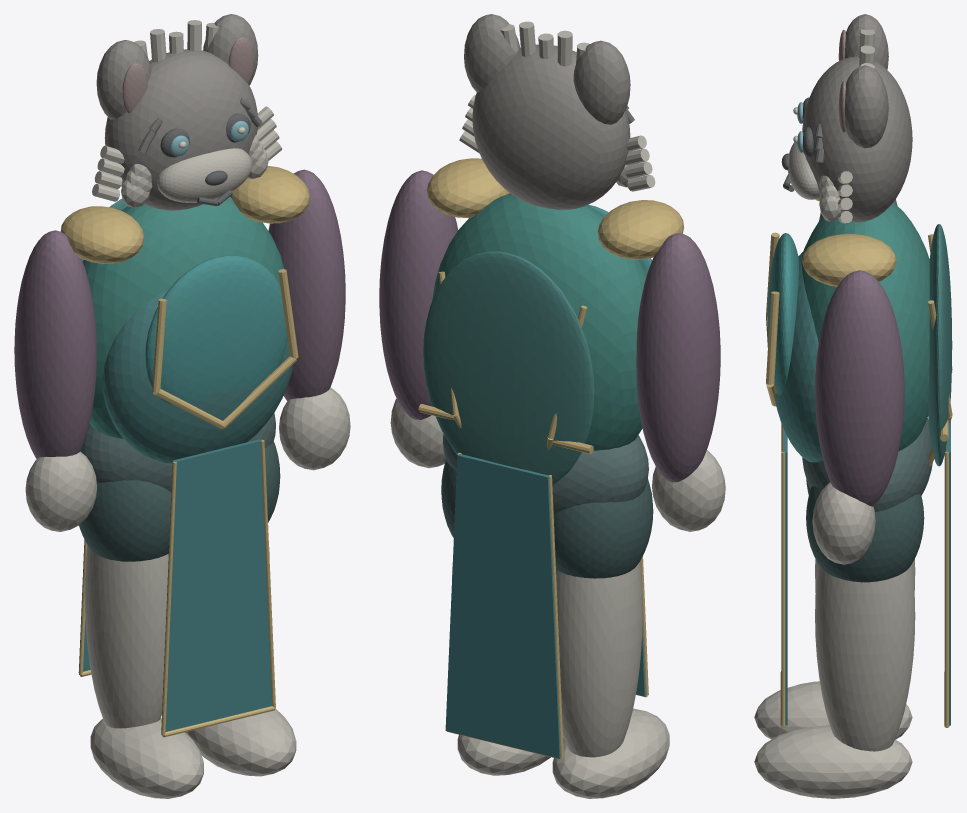
Rendered from high_prototype.glb.
3 renders of one model, left to right at view 1: azimuth 30°, elevation 25°; view 2: azimuth 150°, elevation 25°; view 3: azimuth 270°, elevation 25°, orthographic. The views are drawn at different scales.
Parts seen in each view (by area): view 1: front_hanging_fabric_062, chest_armor_055, arm_-1_006, torso_001, leg_-1_004, belly_clothing_003, head_016, arm_1_012, paw_-1_005, short_leg_-1_060, paw_1_011, hand_-1_007 (+15 smaller); view 2: back_coat_051, back_hanging_fabric_066, torso_001, head_016, arm_-1_006, leg_-1_004, arm_1_012, short_leg_-1_060, paw_-1_005, hips_002, hand_-1_007, gold_shoulder_057 (+8 smaller); view 3: arm_1_012, leg_1_010, torso_001, head_016, paw_1_011, short_leg_1_061, belly_clothing_003, back_coat_051, hand_1_013, gold_shoulder_059, chest_armor_055, hips_002 (+10 smaller).
Boxes of the visible parts, left/top/right/bottom form: front_hanging_fabric_062: left=161, top=439, right=271, bottom=731; chest_armor_055: left=145, top=255, right=287, bottom=404; arm_-1_006: left=14, top=230, right=96, bottom=458; torso_001: left=83, top=197, right=284, bottom=438; leg_-1_004: left=84, top=545, right=168, bottom=728; belly_clothing_003: left=103, top=289, right=293, bottom=463; head_016: left=104, top=49, right=257, bottom=210; arm_1_012: left=268, top=169, right=345, bottom=400; paw_-1_005: left=90, top=718, right=203, bottom=798; short_leg_-1_060: left=79, top=480, right=171, bottom=561; paw_1_011: left=185, top=708, right=296, bottom=776; hand_-1_007: left=25, top=451, right=96, bottom=531; back_coat_051: left=423, top=251, right=594, bottom=485; back_hanging_fabric_066: left=445, top=454, right=560, bottom=758; torso_001: left=432, top=193, right=646, bottom=450; head_016: left=472, top=44, right=630, bottom=209; arm_-1_006: left=636, top=233, right=720, bottom=482; leg_-1_004: left=556, top=561, right=642, bottom=757; arm_1_012: left=379, top=170, right=458, bottom=419; short_leg_-1_060: left=553, top=479, right=653, bottom=578; paw_-1_005: left=552, top=708, right=669, bottom=798; hips_002: left=443, top=434, right=648, bottom=513; hand_-1_007: left=652, top=450, right=725, bottom=531; gold_shoulder_057: left=597, top=200, right=684, bottom=259; arm_1_012: left=815, top=270, right=904, bottom=506; leg_1_010: left=815, top=564, right=915, bottom=751; torso_001: left=801, top=202, right=929, bottom=450; head_016: left=802, top=56, right=912, bottom=222; paw_1_011: left=754, top=725, right=912, bottom=798; short_leg_1_061: left=806, top=486, right=924, bottom=582; belly_clothing_003: left=775, top=252, right=822, bottom=462; back_coat_051: left=928, top=224, right=952, bottom=466; hand_1_013: left=812, top=482, right=875, bottom=564; gold_shoulder_059: left=802, top=234, right=896, bottom=286; chest_armor_055: left=767, top=233, right=798, bottom=395; hips_002: left=802, top=418, right=932, bottom=511.
Size of the model in its own units: 0.69 by 1.53 by 0.3759.
